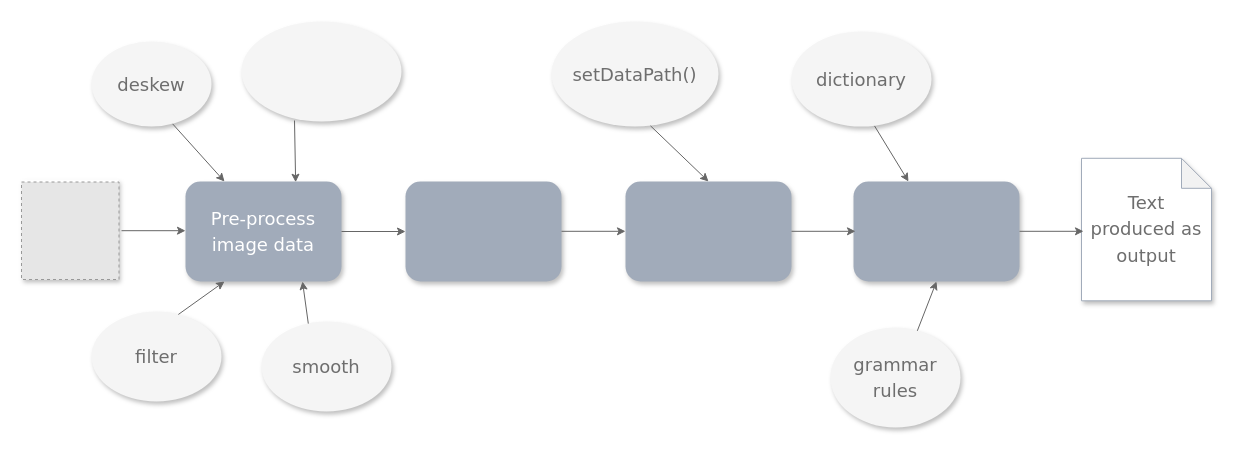
This 1235x451 diagram has some shape labels left out. Grey dashed boxes stand in for pictures. Here are the shapes that lost their labels. From the top down, the centre of each, then its label:
At [322,72]: "convert to grayscale".
At [484,232]: "Detect lines, words and chacracters".
At [709,232]: "Produce ranked list of candidate characters".
At [937,232]: "Post-process recognized characters".
